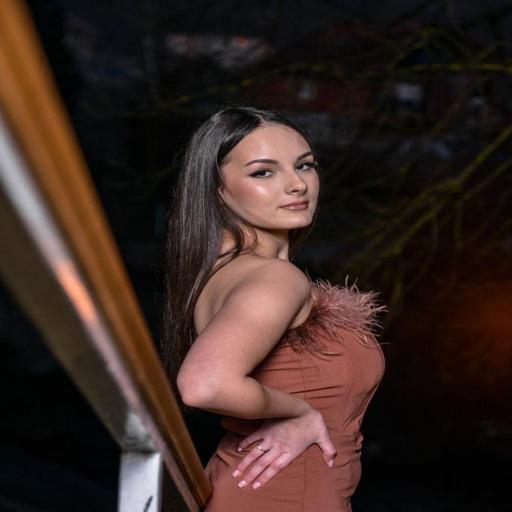marija: (220, 129, 322, 229)
